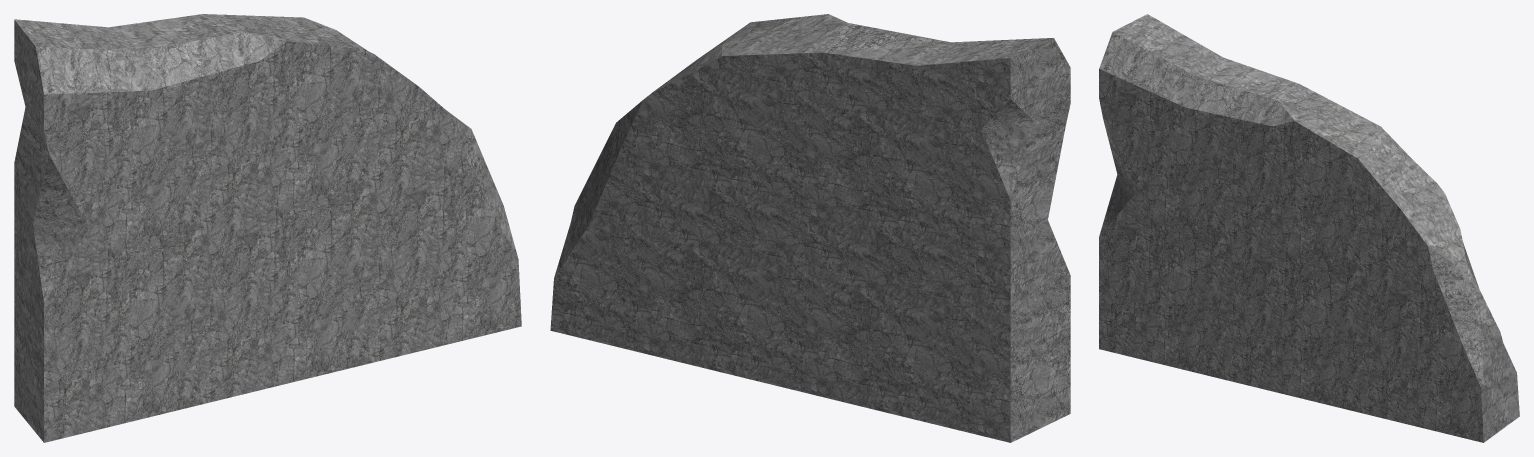
File: materials_3_wall_11.fbx
The picture shows the model from 3 angles, left to right: view 1: azimuth 30°, elevation 25°; view 2: azimuth 150°, elevation 25°; view 3: azimuth 330°, elevation 25°; orthographic projection. The views are drawn at different scales.
Visible parts, largest first — view 1: materials_3_wall_11; view 2: materials_3_wall_11; view 3: materials_3_wall_11.
Part boxes in pixels (x1,y1,x2,y2): materials_3_wall_11: (14, 14, 521, 442); materials_3_wall_11: (550, 14, 1070, 442); materials_3_wall_11: (1099, 14, 1519, 442).
Size of the model in its own units: 525 by 406 by 85.6.
